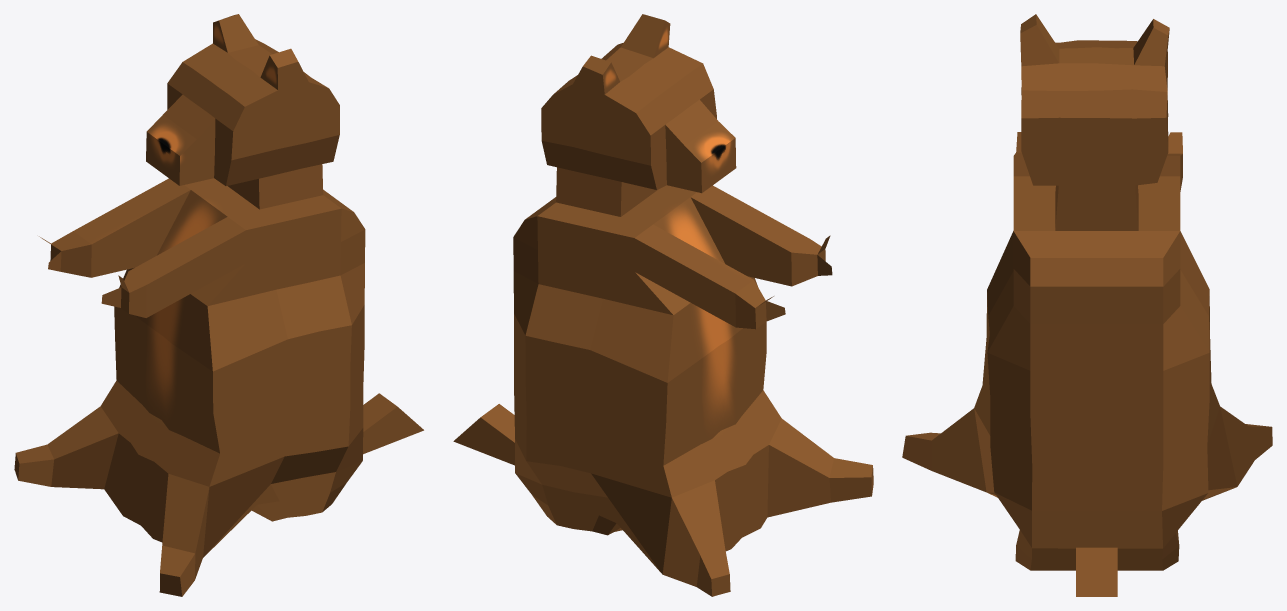
The model's file is bear.glb.
The picture shows the model from 3 angles, left to right: view 1: azimuth 30°, elevation 25°; view 2: azimuth 150°, elevation 25°; view 3: azimuth 270°, elevation 25°; orthographic projection. The views are drawn at different scales.
Parts seen in each view (by area): view 1: Cube; view 2: Cube; view 3: Cube.
Part boxes in pixels (<box>): Cube: <box>14,14,423,596</box>; Cube: <box>453,14,873,596</box>; Cube: <box>902,14,1272,596</box>.
Size of the model in its own units: 5.38 by 7.01 by 4.45.
1 material, 1 textured.
